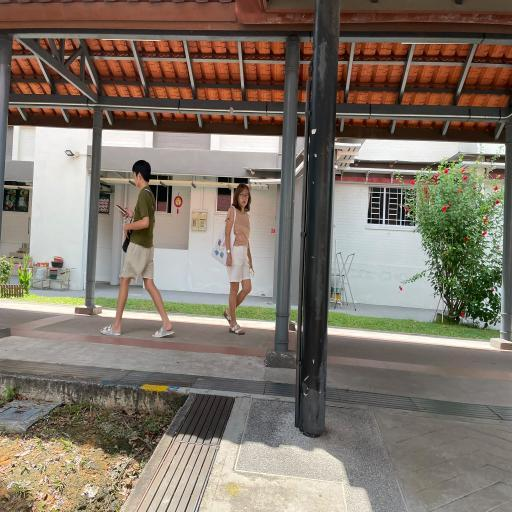person_left: (100, 156, 176, 343)
person_right: (212, 176, 260, 340)
